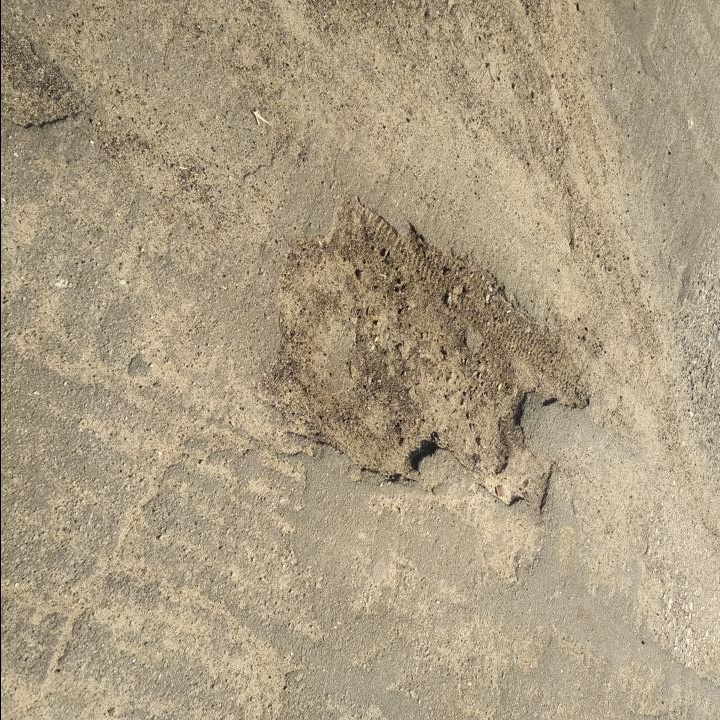pothole: (265, 192, 598, 517), (1, 20, 89, 142)
